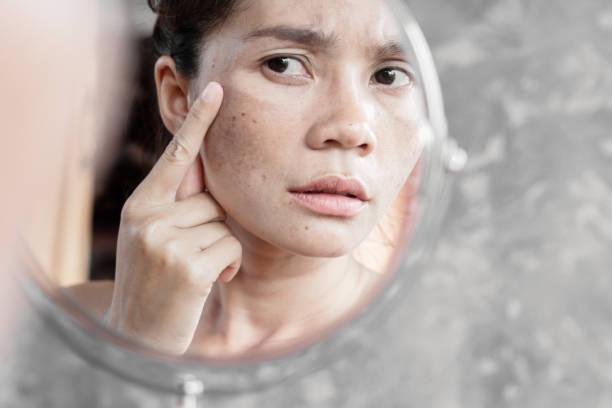Dry-Skin: (213, 99, 280, 195)
